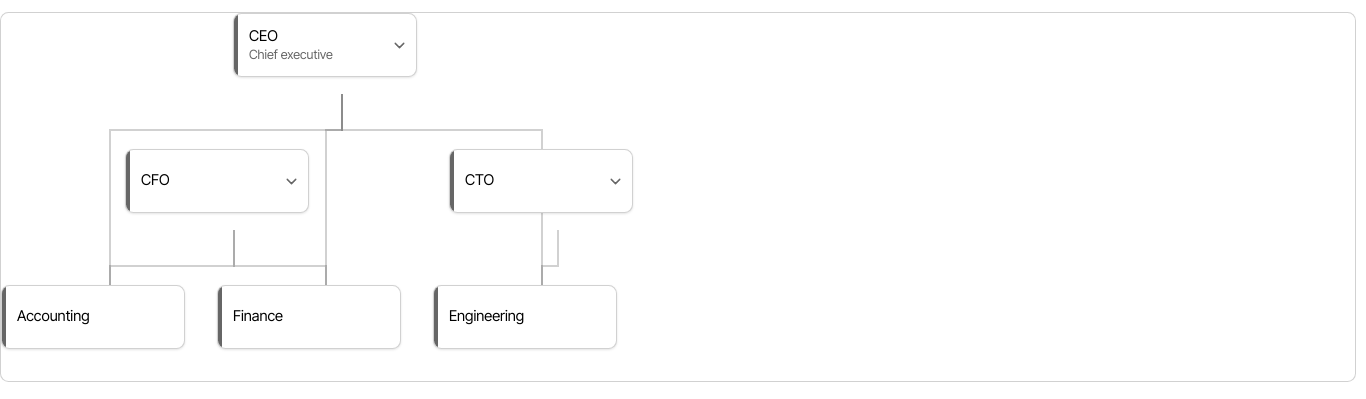
Test case: OrgChart › collapses and re-expands a subtree from its toggle
Click the button named "Collapse CFO" at (291, 181), box [274,150,308,212]
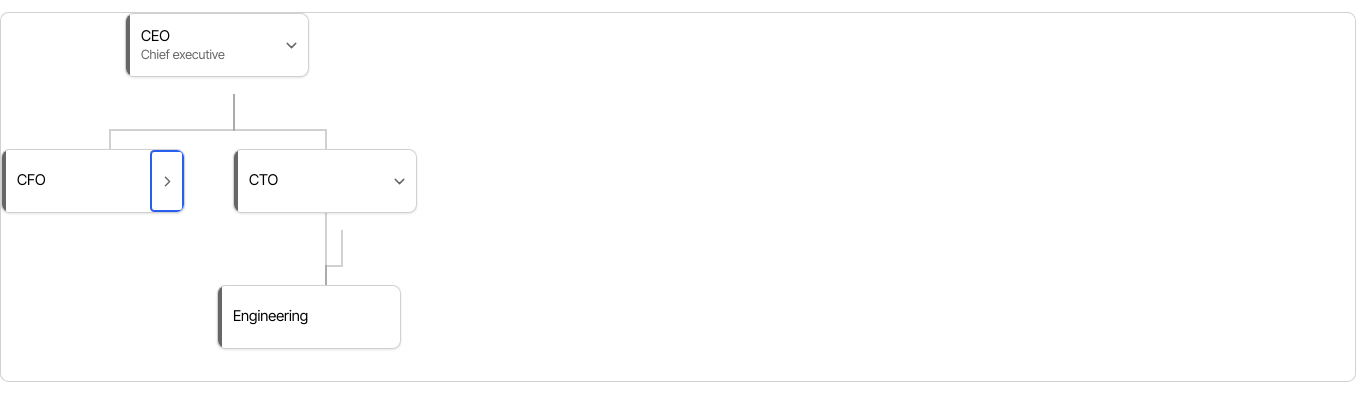
Expected: the button "Accounting" is gone
Expected: the button "Finance" is gone
Click the button named "Expand CFO" at (167, 181), box [150,150,184,212]
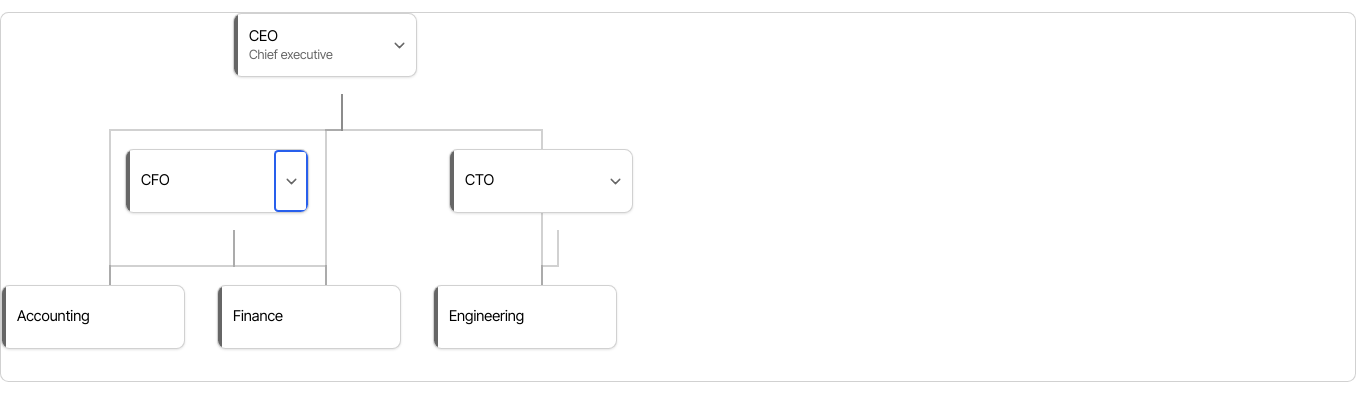
Expected: the text "Accounting" is shown, [17,307,90,325]
